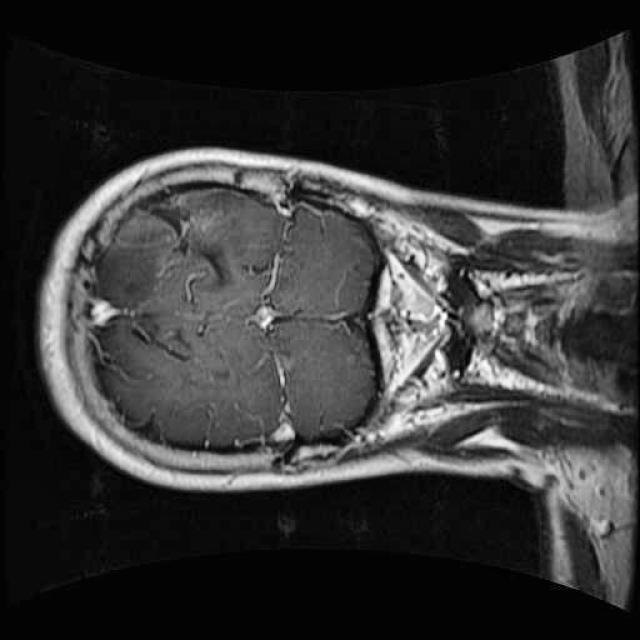Non-Tumor: (83, 228, 194, 319)
